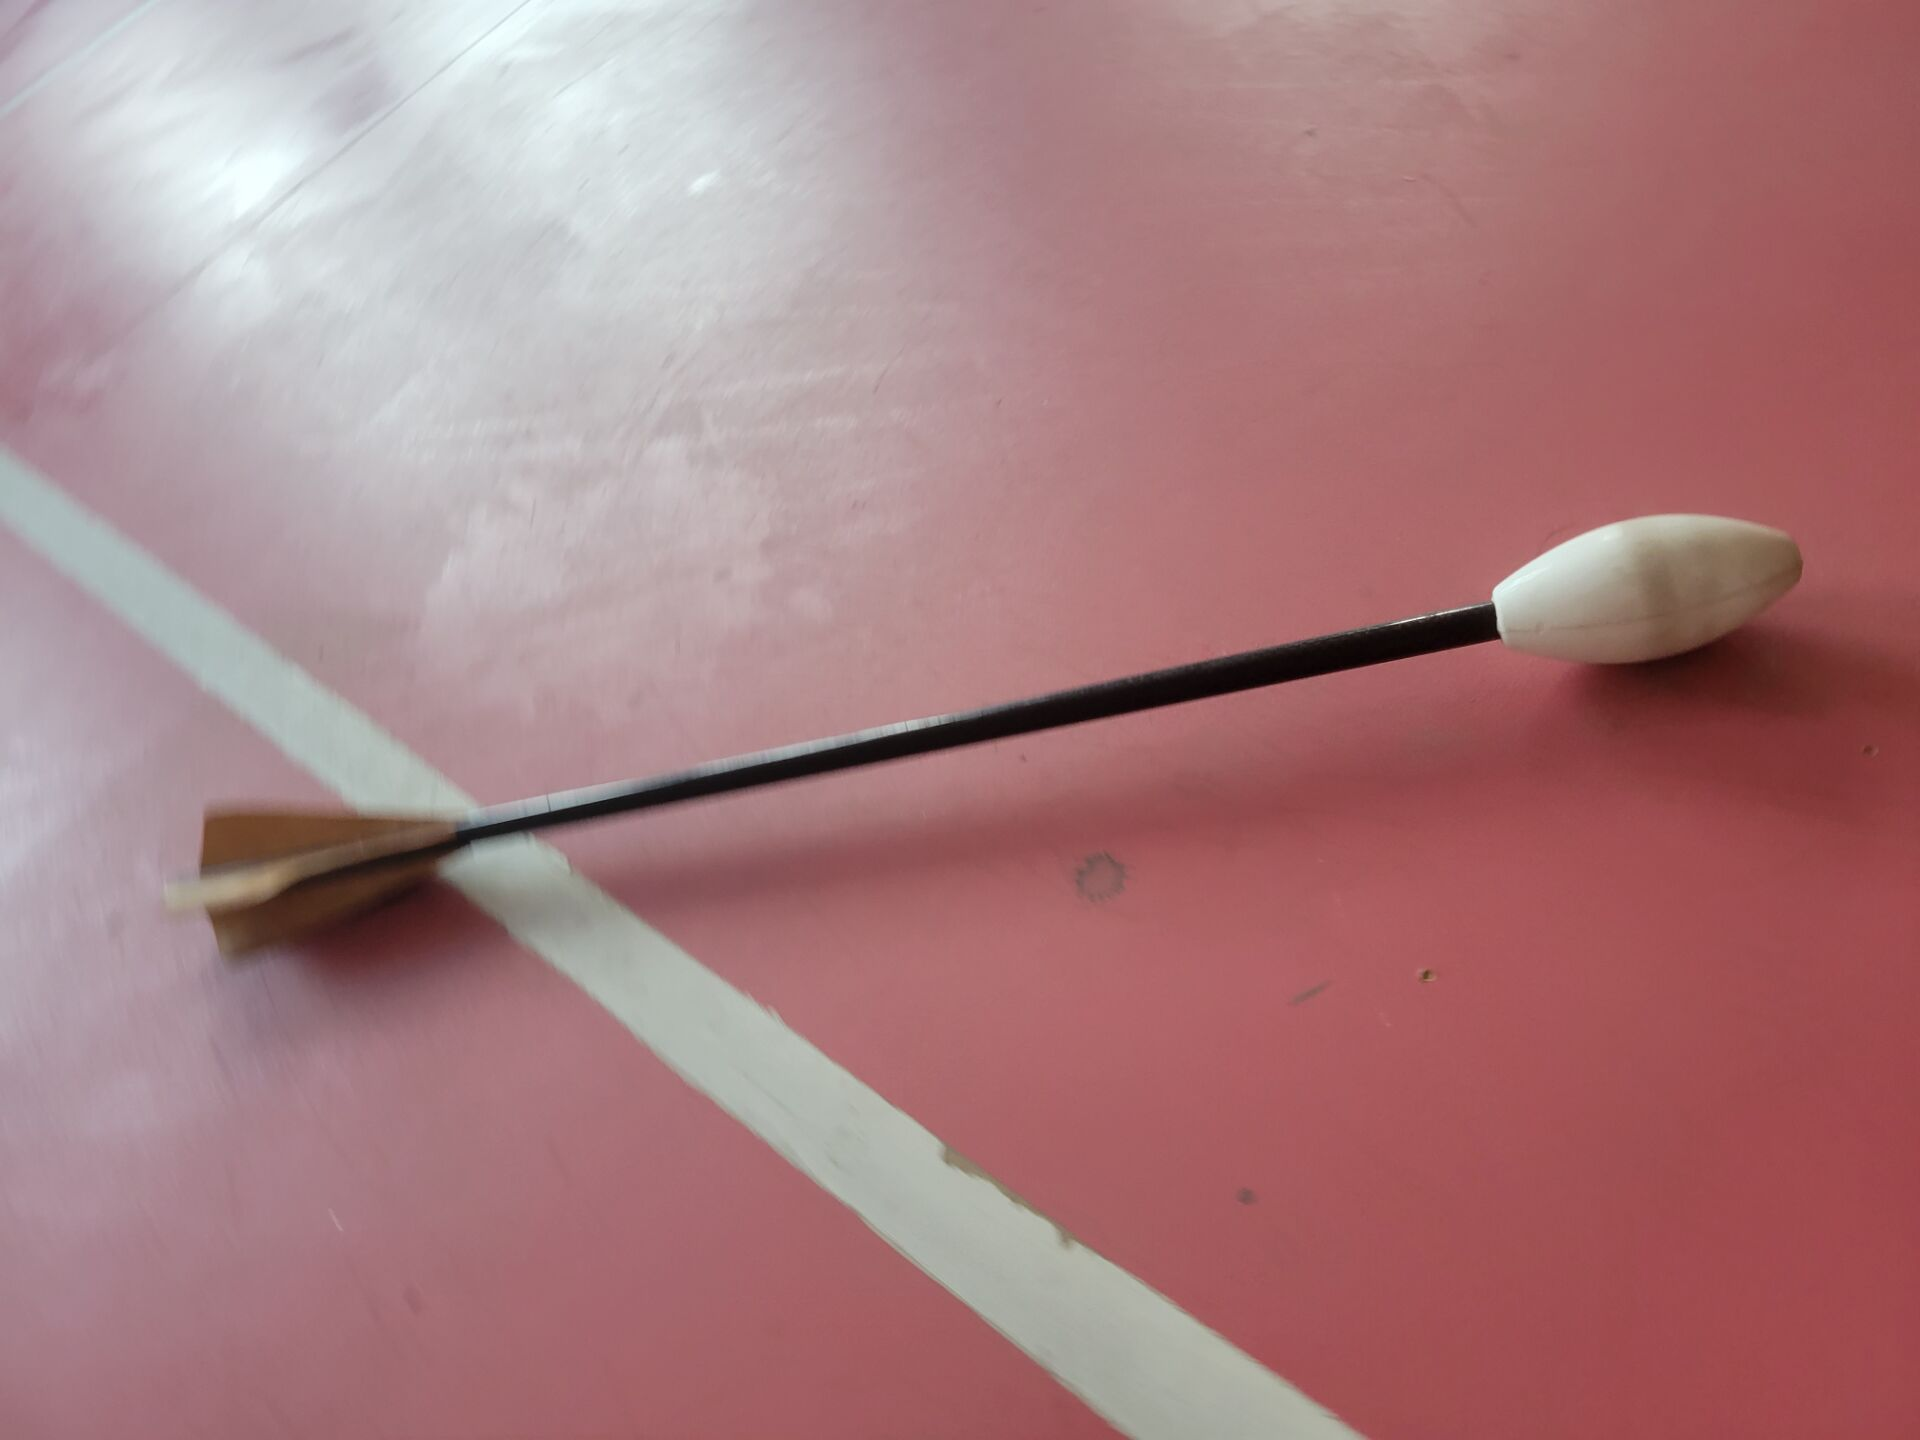arrow: (159, 507, 1804, 951)
arrowFront: (1491, 507, 1805, 666)
